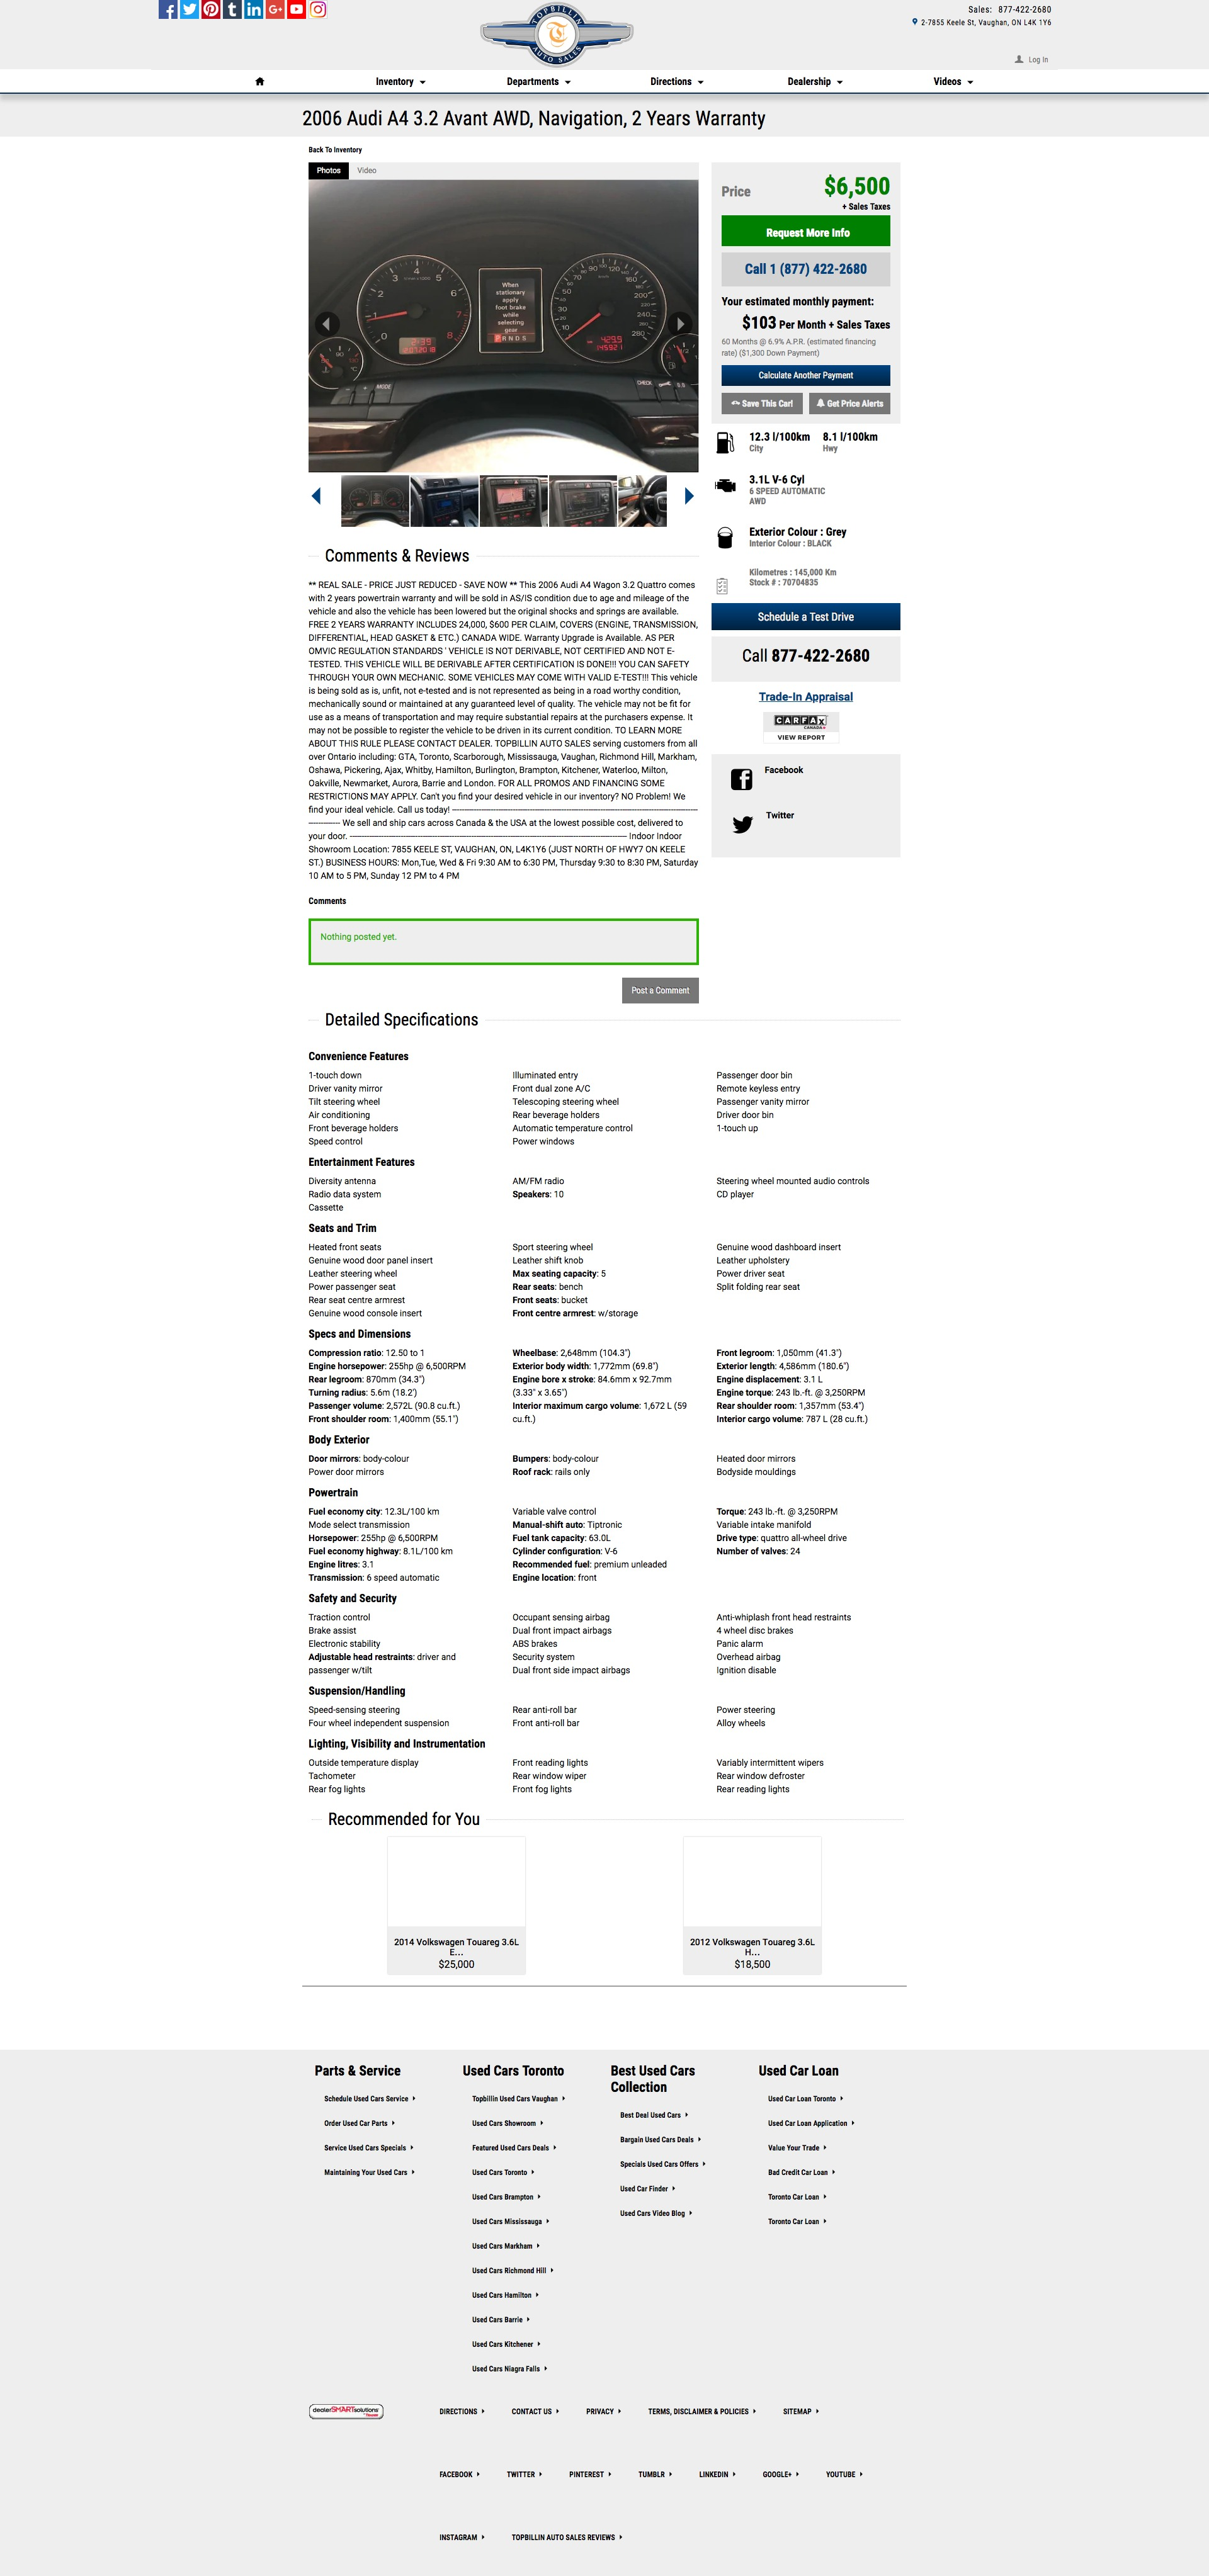car: (683, 488, 695, 506)
